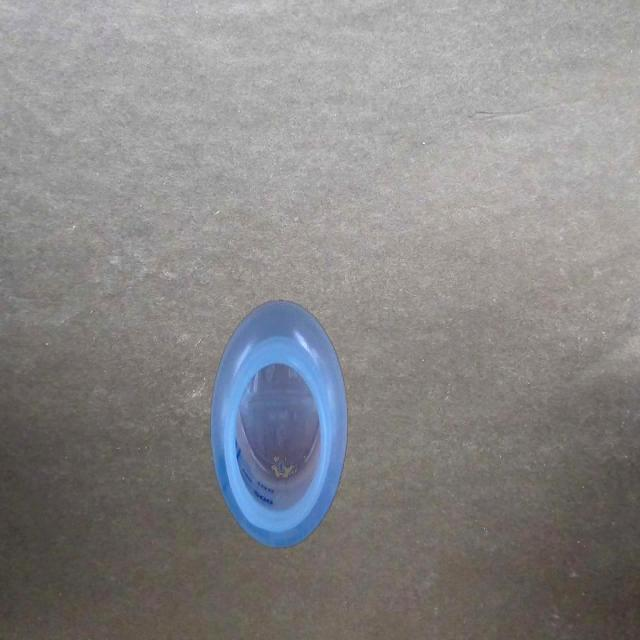bottle: (208, 296, 349, 555)
